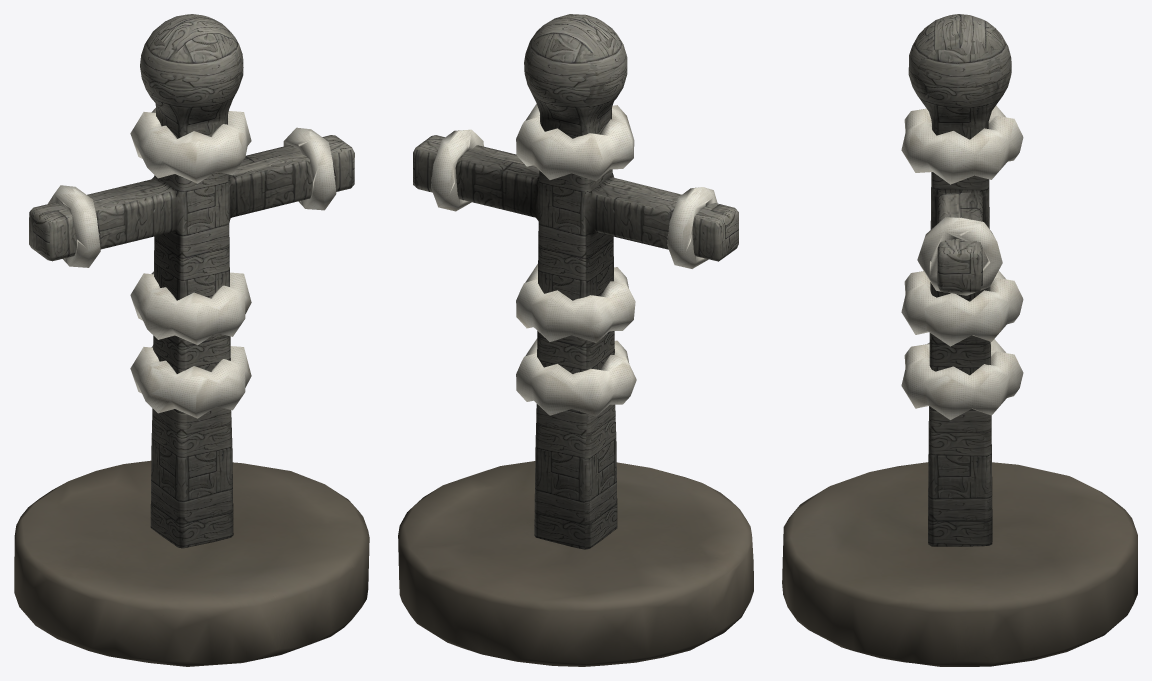
Rendered from sparring_post.glb.
3 views of the same model, side by side, from view 1: azimuth 30°, elevation 25°; view 2: azimuth 150°, elevation 25°; view 3: azimuth 270°, elevation 25° (orthographic).
Visible parts, largest first — view 1: post_base, post_beam, post_wraps; view 2: post_base, post_beam, post_wraps; view 3: post_base, post_beam, post_wraps.
Boxes of the visible parts, x1=… form: post_base: x1=14, y1=460, x2=369, y2=666; post_beam: x1=29, y1=14, x2=354, y2=548; post_wraps: x1=48, y1=108, x2=336, y2=418; post_base: x1=398, y1=461, x2=753, y2=666; post_beam: x1=413, y1=14, x2=738, y2=549; post_wraps: x1=431, y1=104, x2=717, y2=416; post_base: x1=782, y1=462, x2=1137, y2=666; post_beam: x1=908, y1=14, x2=1011, y2=546; post_wraps: x1=901, y1=105, x2=1023, y2=419.
Bounding box in the file's own units: 1.1 × 1.96 × 1.09.
3 materials, 3 textured.
